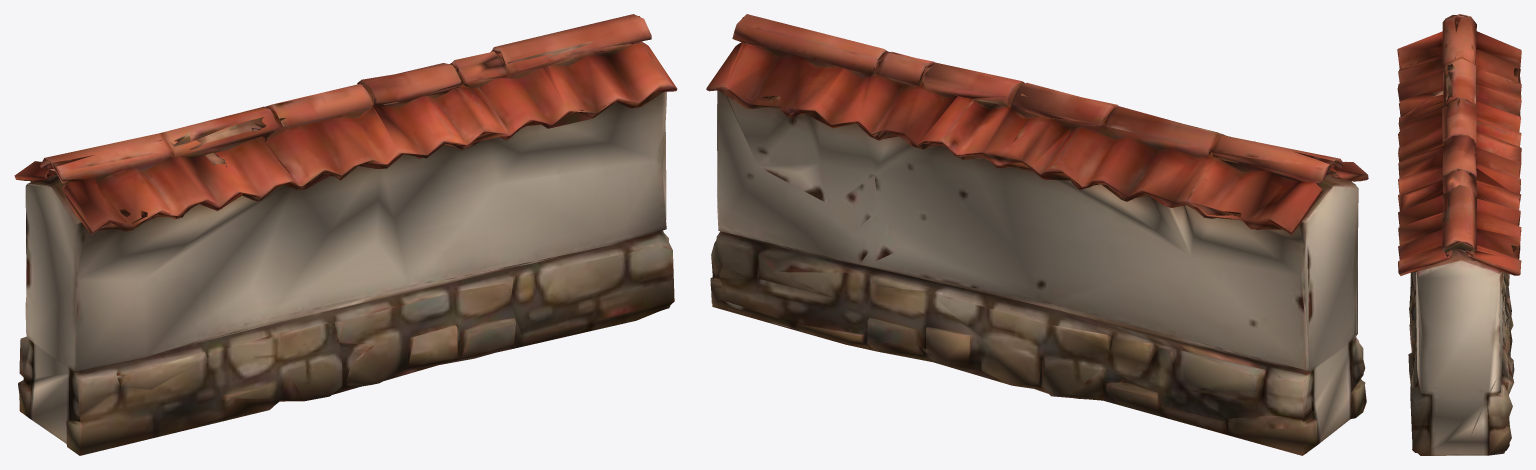
The model's file is decor_garden-wall_t1_plaster.glb.
The picture shows the model from 3 angles, left to right: view 1: azimuth 30°, elevation 25°; view 2: azimuth 150°, elevation 25°; view 3: azimuth 270°, elevation 25°; orthographic projection. The views are drawn at different scales.
Parts seen in each view (by area): view 1: world; view 2: world; view 3: world.
Boxes of the visible parts, left/top/right/bottom form: world: left=14, top=14, right=677, bottom=455; world: left=706, top=14, right=1368, bottom=455; world: left=1397, top=14, right=1521, bottom=455.
Bounding box in the file's own units: 2 × 0.8777 × 0.4569.
Materials: 1 (1 with a texture image).
